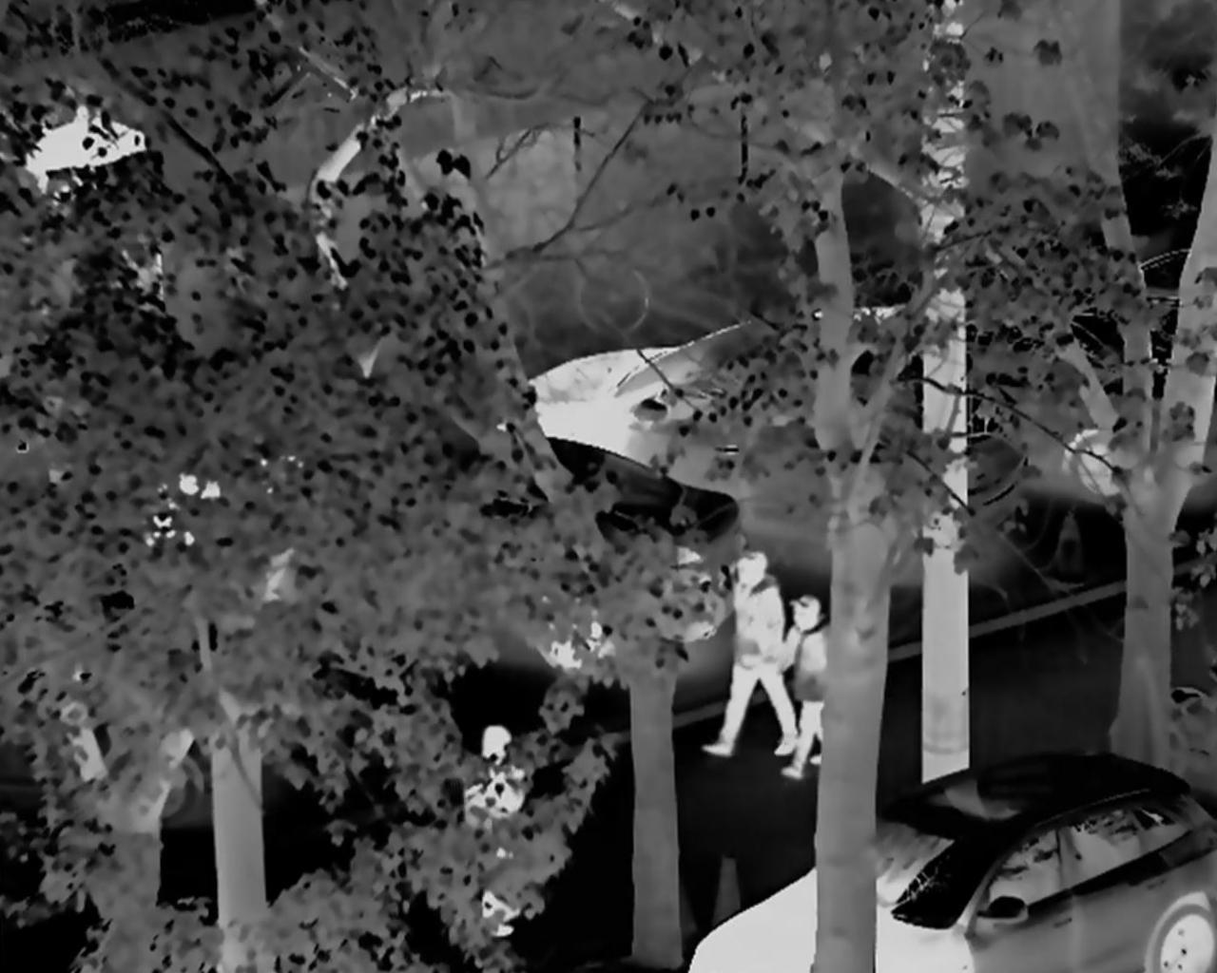person: (705, 548, 800, 766), (457, 720, 538, 935), (776, 596, 855, 789)
